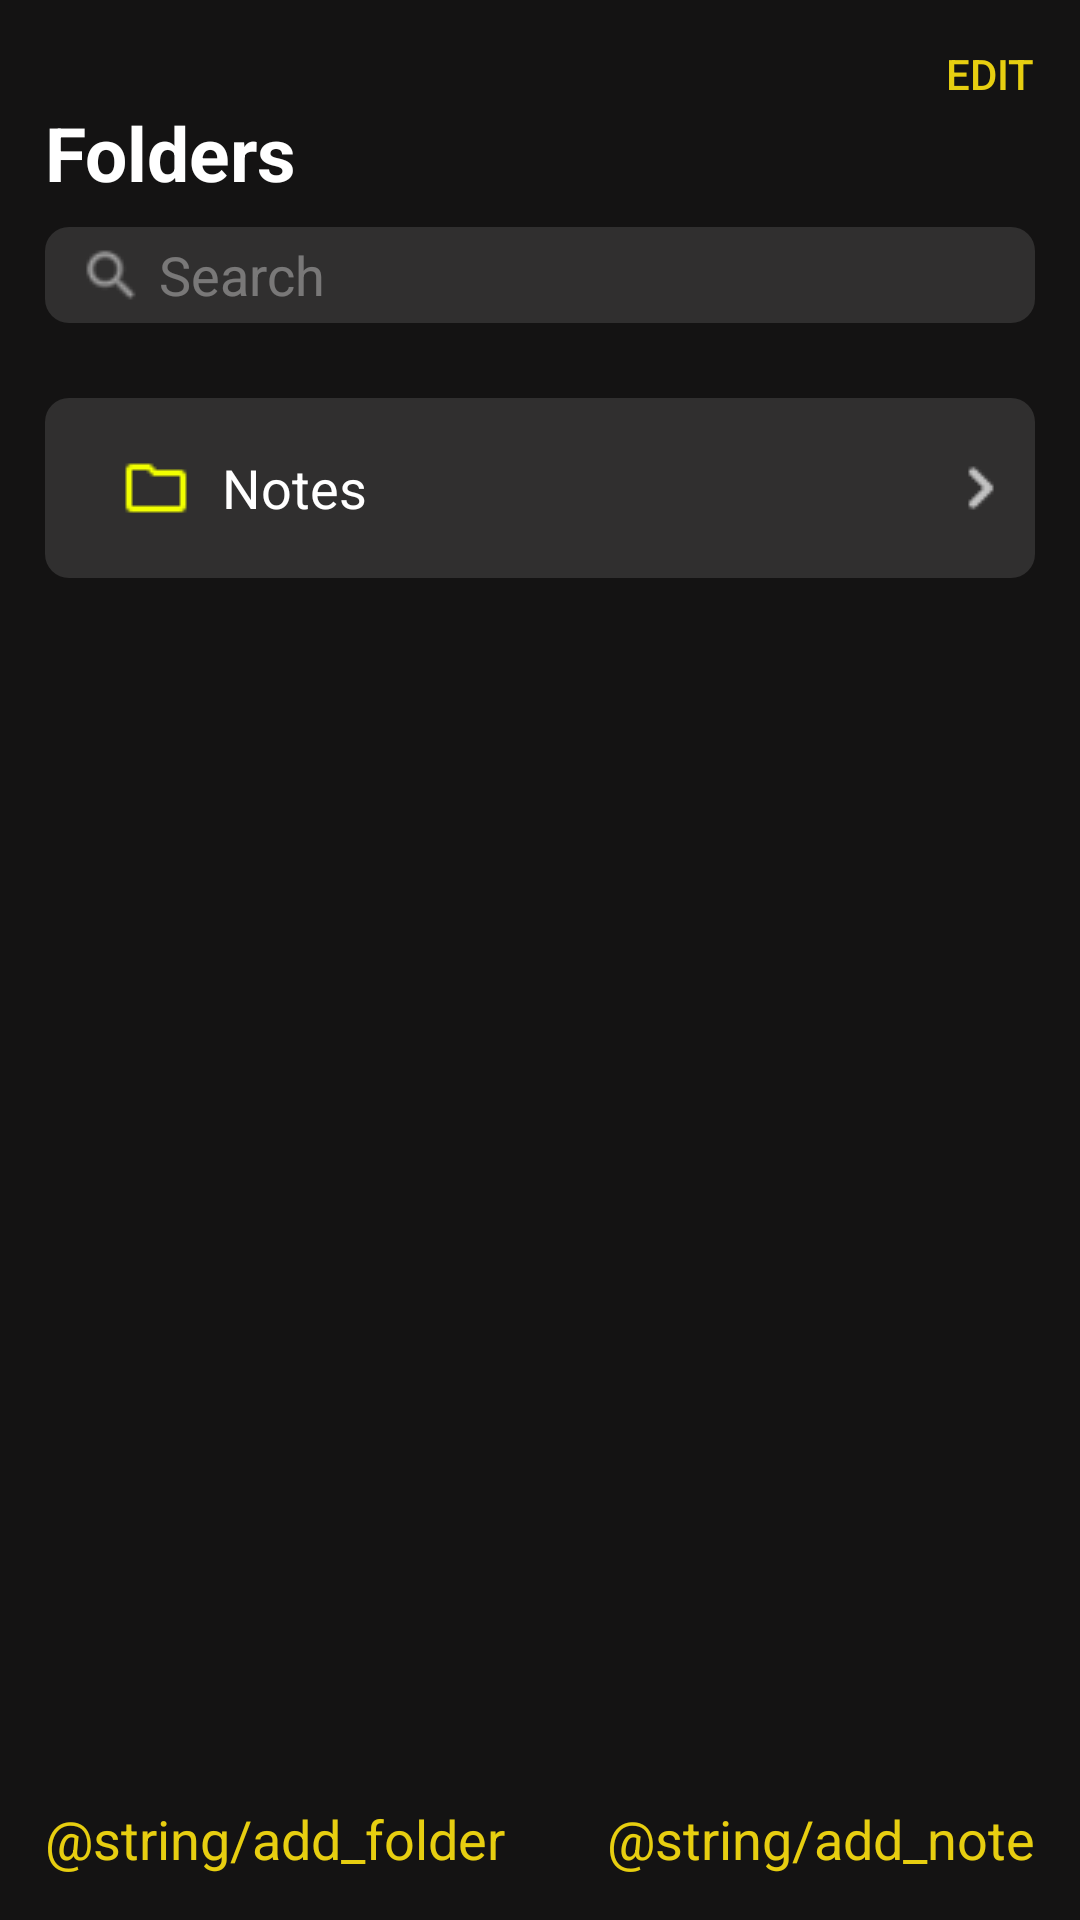

Named icons in this screenshot (1080x1920) and their bounding boxes, detection(x1, y1, x2, y2):
chevron: detection(968, 466, 994, 510)
folder: detection(125, 463, 187, 513)
